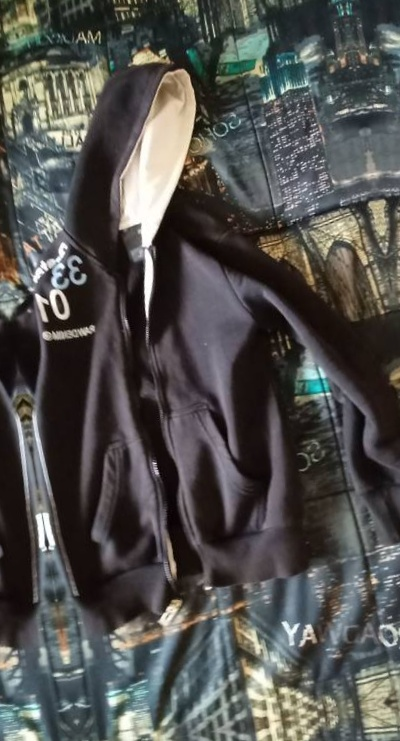Hoodie: (0, 0, 400, 711), (0, 39, 74, 741), (344, 0, 400, 648), (89, 735, 400, 741)
